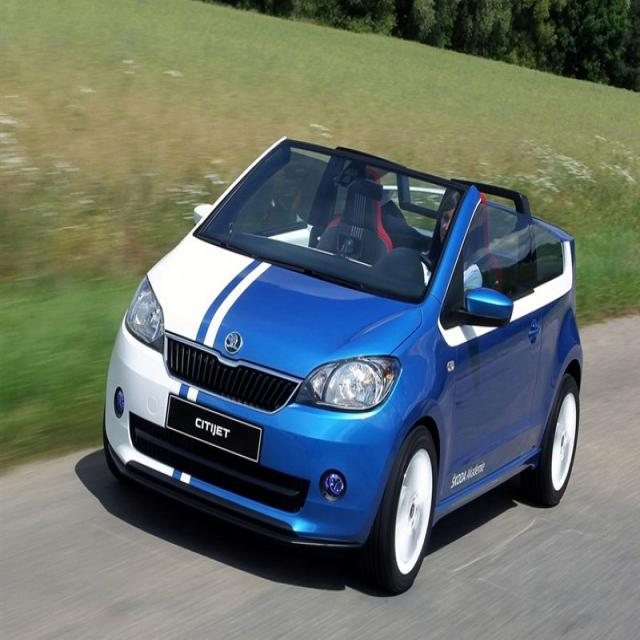front_bumper: (103, 314, 401, 554)
front_glass: (196, 133, 469, 305)
front_left_side_door: (431, 188, 544, 512)
front_left_side_light: (288, 351, 402, 410)
front_left_side_mirror: (463, 284, 514, 330)
front_right_side_light: (122, 270, 166, 356)
front_right_side_mirror: (191, 198, 212, 224)
wheel: (364, 429, 437, 588), (531, 370, 582, 502)
